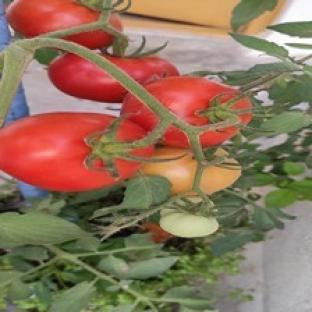Tomato: (0, 113, 142, 192), (145, 77, 239, 126), (48, 53, 128, 103), (141, 147, 197, 193), (159, 209, 218, 238), (141, 222, 174, 242)
